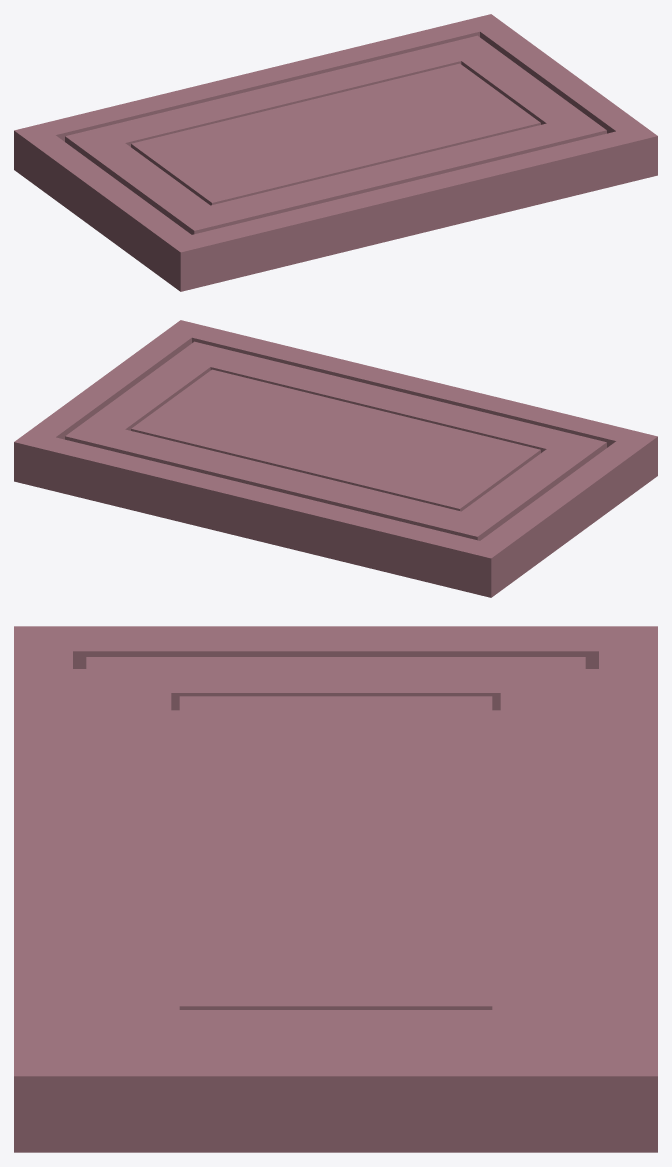
Rendered from ground.glb.
3 renders of one model, top to bottom at view 1: azimuth 30°, elevation 25°; view 2: azimuth 150°, elevation 25°; view 3: azimuth 270°, elevation 25°, orthographic. The views are drawn at different scales.
Visible parts, largest first — view 1: 3DGeom-1; view 2: 3DGeom-1; view 3: 3DGeom-1.
Part boxes in pixels (x1,y1,x2,y2): 3DGeom-1: (14, 14, 657, 291); 3DGeom-1: (14, 320, 657, 597); 3DGeom-1: (14, 626, 657, 1152).
Bounding box in the file's own units: 127 × 10 × 76.6.
